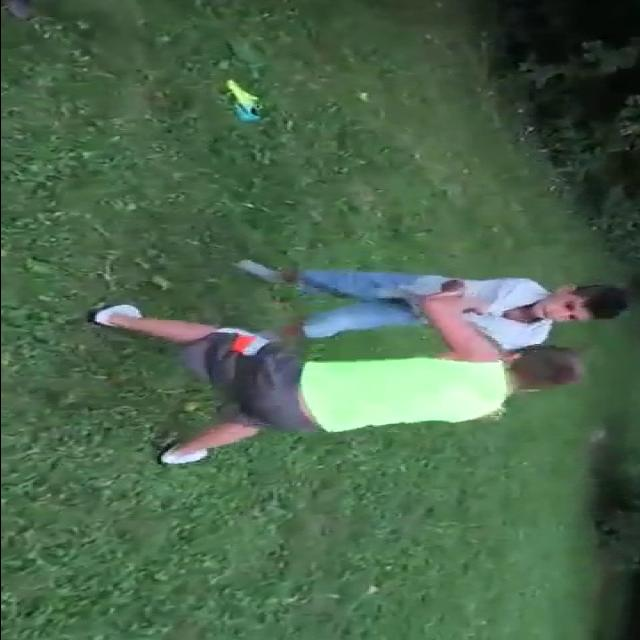Violence: (92, 260, 628, 464)
